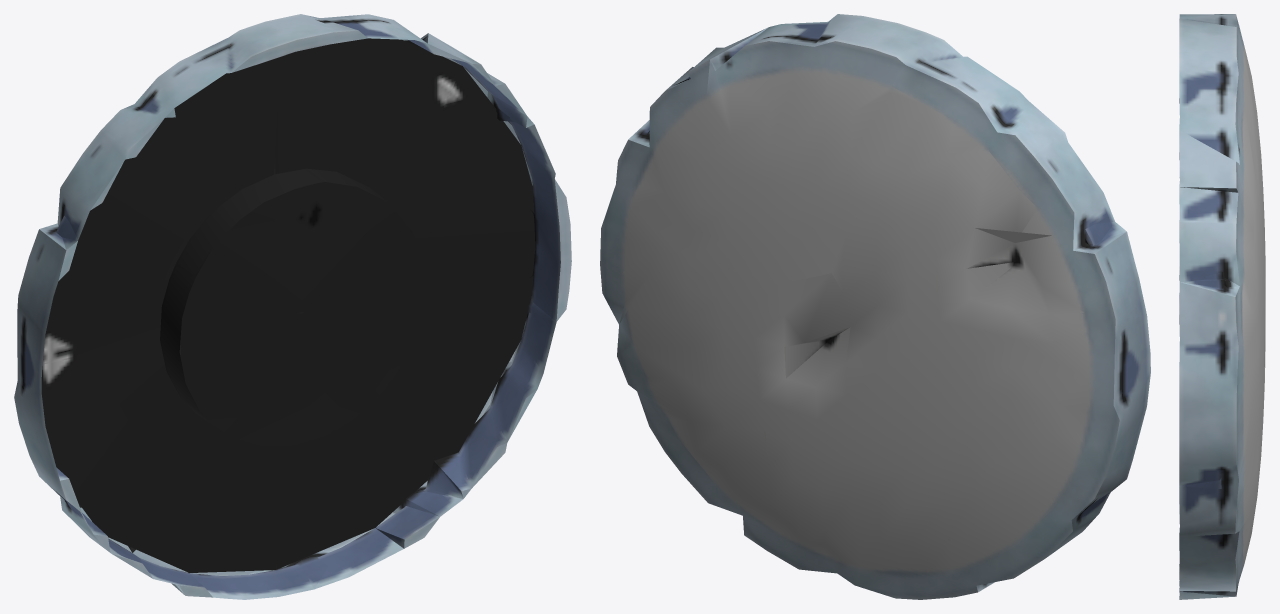
File: clock_wall.glb
3 renders of one model, left to right at view 1: azimuth 30°, elevation 25°; view 2: azimuth 150°, elevation 25°; view 3: azimuth 270°, elevation 25°, orthographic. The views are drawn at different scales.
Parts seen in each view (by area): view 1: mesh; view 2: mesh; view 3: mesh.
Part boxes in pixels (bbox=[...]): mesh: bbox=[14, 14, 571, 599]; mesh: bbox=[600, 14, 1150, 599]; mesh: bbox=[1179, 14, 1265, 599].
Size of the model in its own units: 0.3208 by 0.3205 by 0.0475.
Materials: 1 (1 with a texture image).
